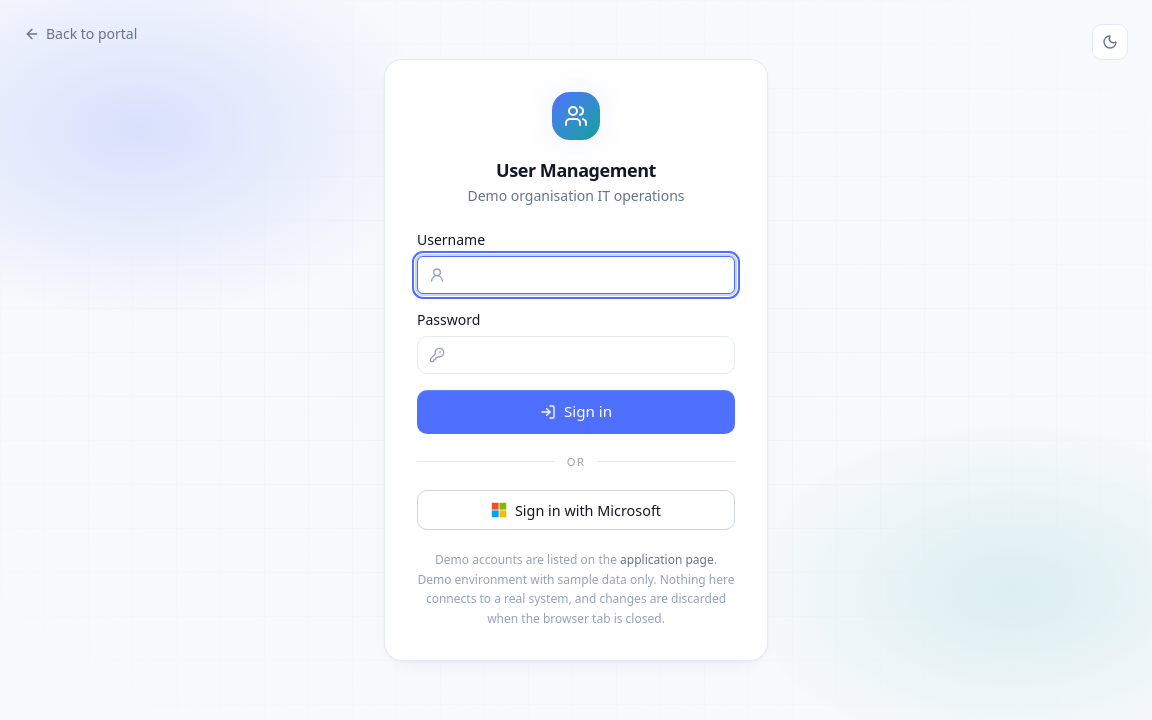
Test case: User Management demo › limits a standard user to AD-only onboarding
This screenshot has width=1152, height=720.
Expected: the heading "User Management" is shown, [496,158,656,182]
Type "user" into the field labelled "Username" at (576, 275), box [417,256,735,294]
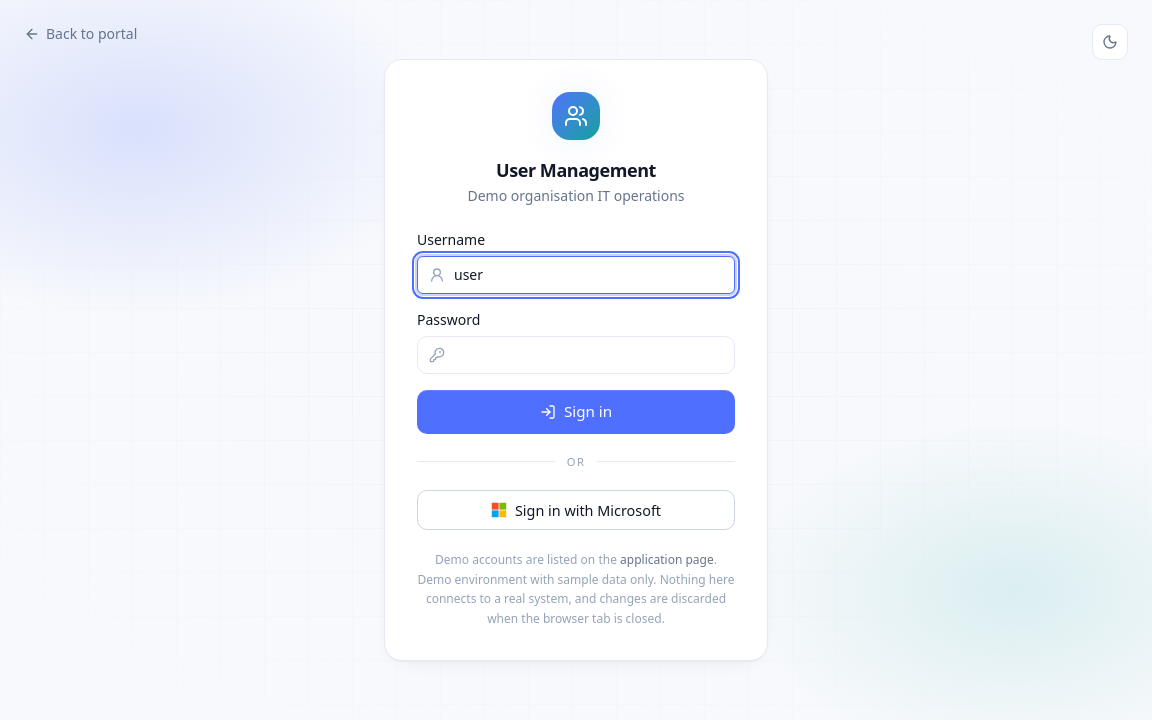
Type "User@1234" into the password field labelled "Password" at (576, 355), box [417,336,735,374]
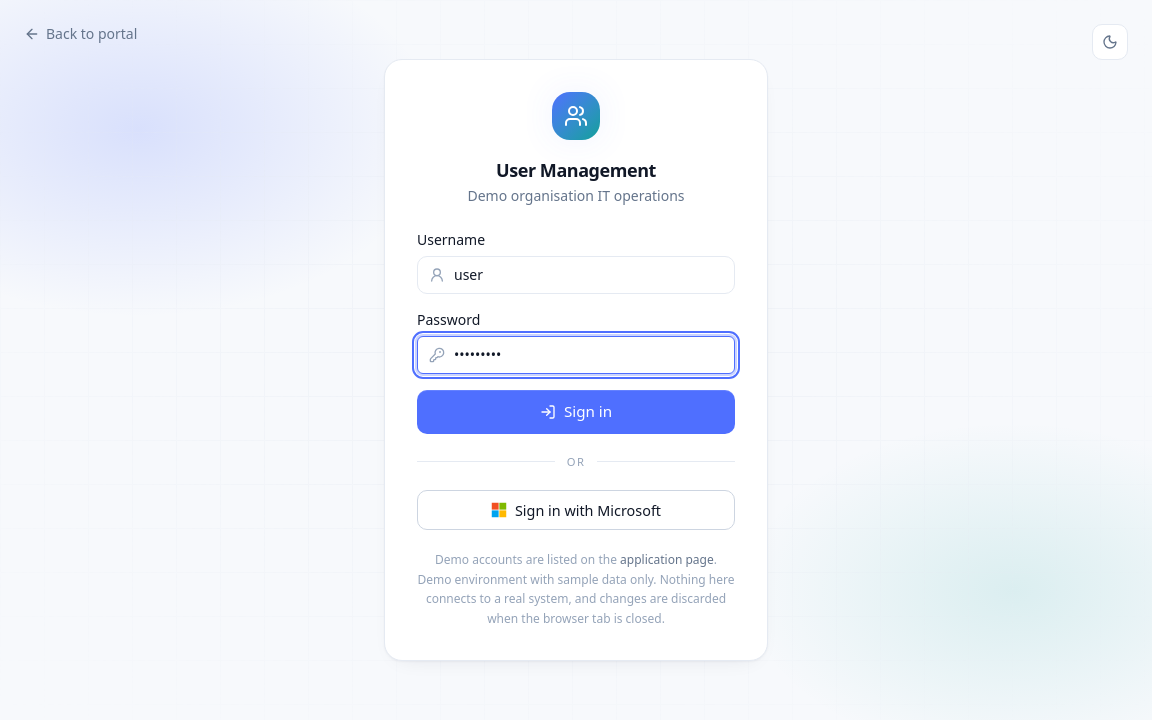
Click the button "Sign in" at (576, 412), box [417,390,735,434]
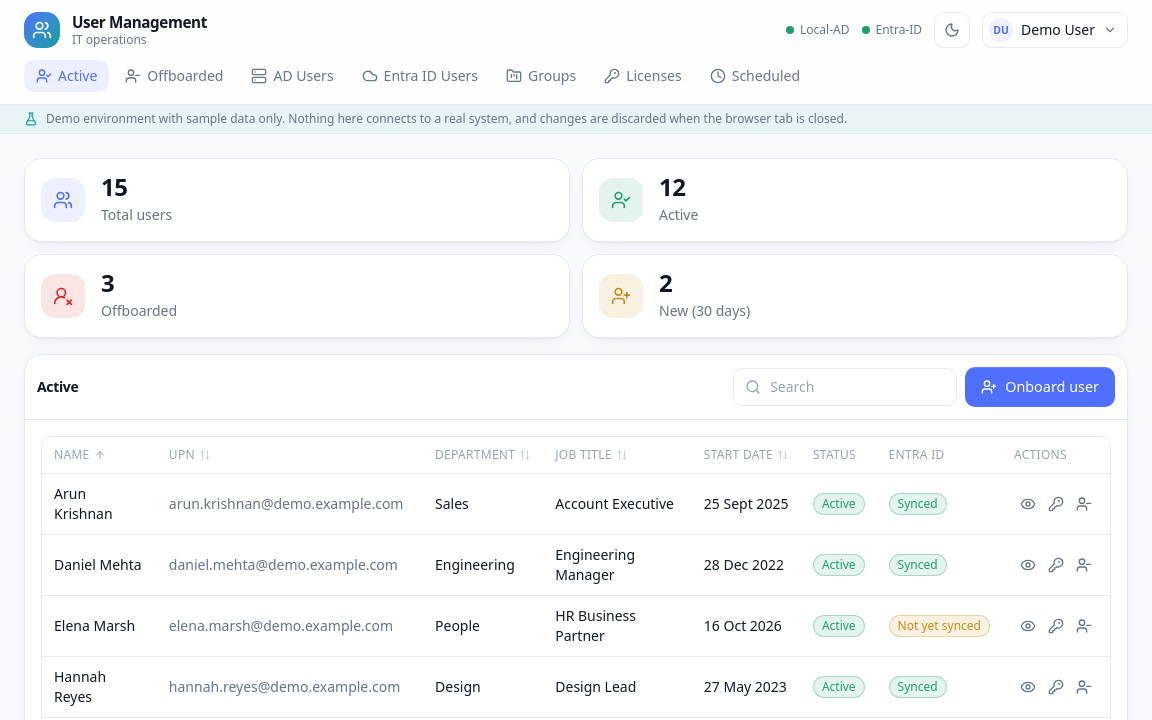
Click the button "Onboard user" at (1040, 387), box [965,367,1115,407]
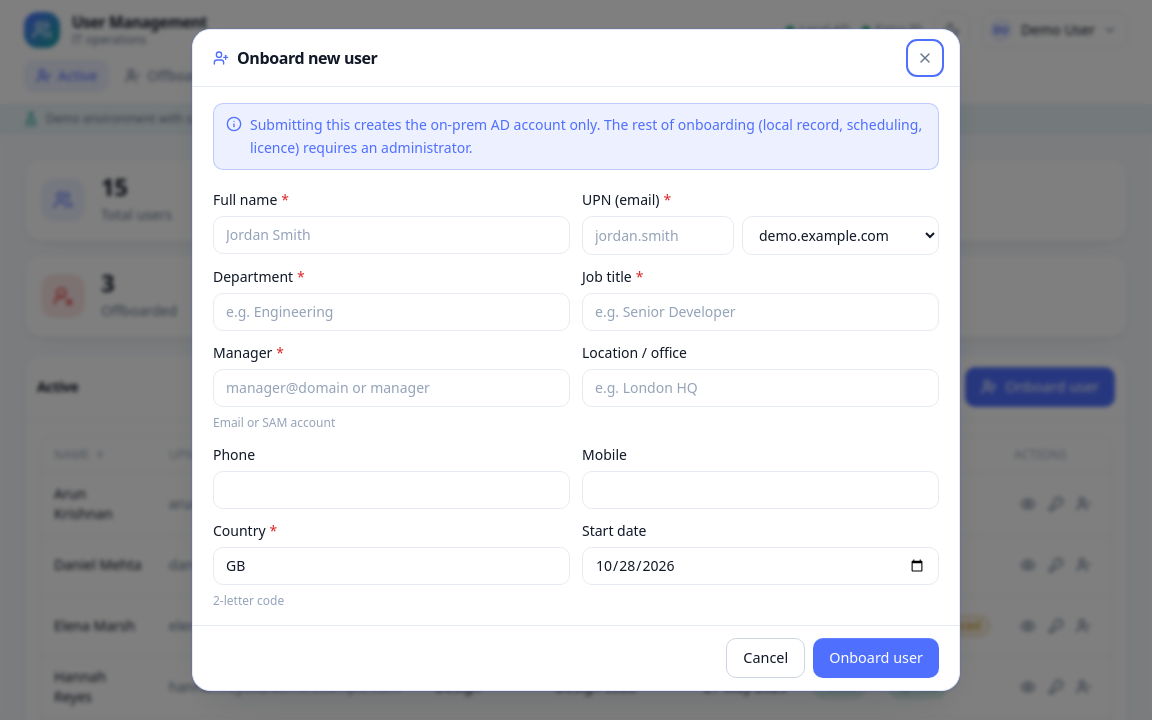
Expected: the dialog "Onboard new user" shows "creates the on-prem AD account only", [250,115,922,157]
